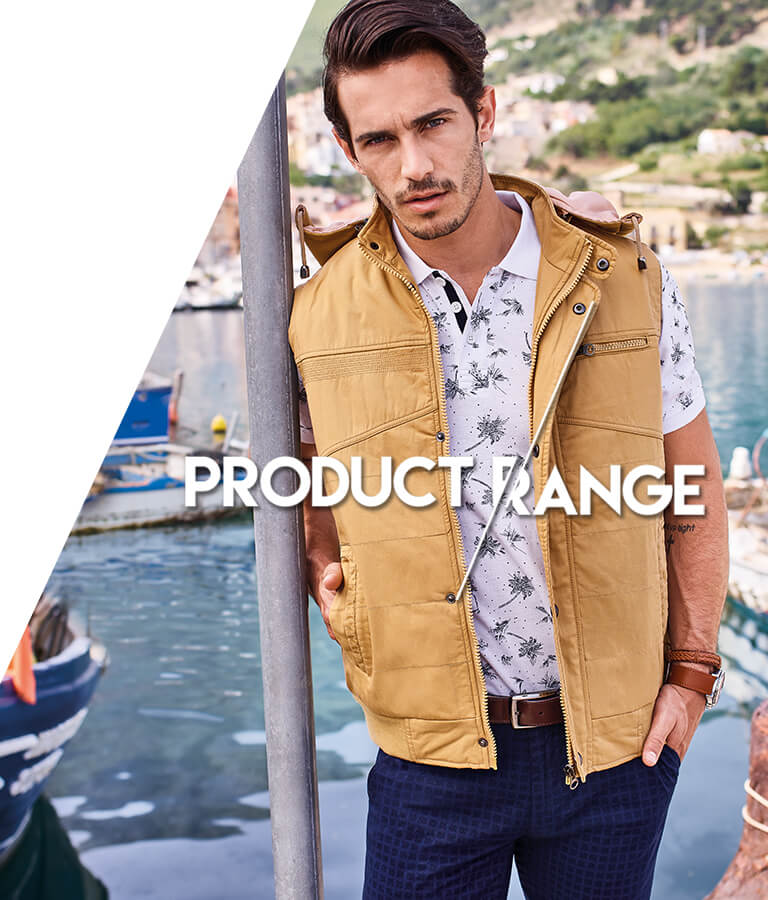NOTSAFE: (292, 5, 693, 757)
